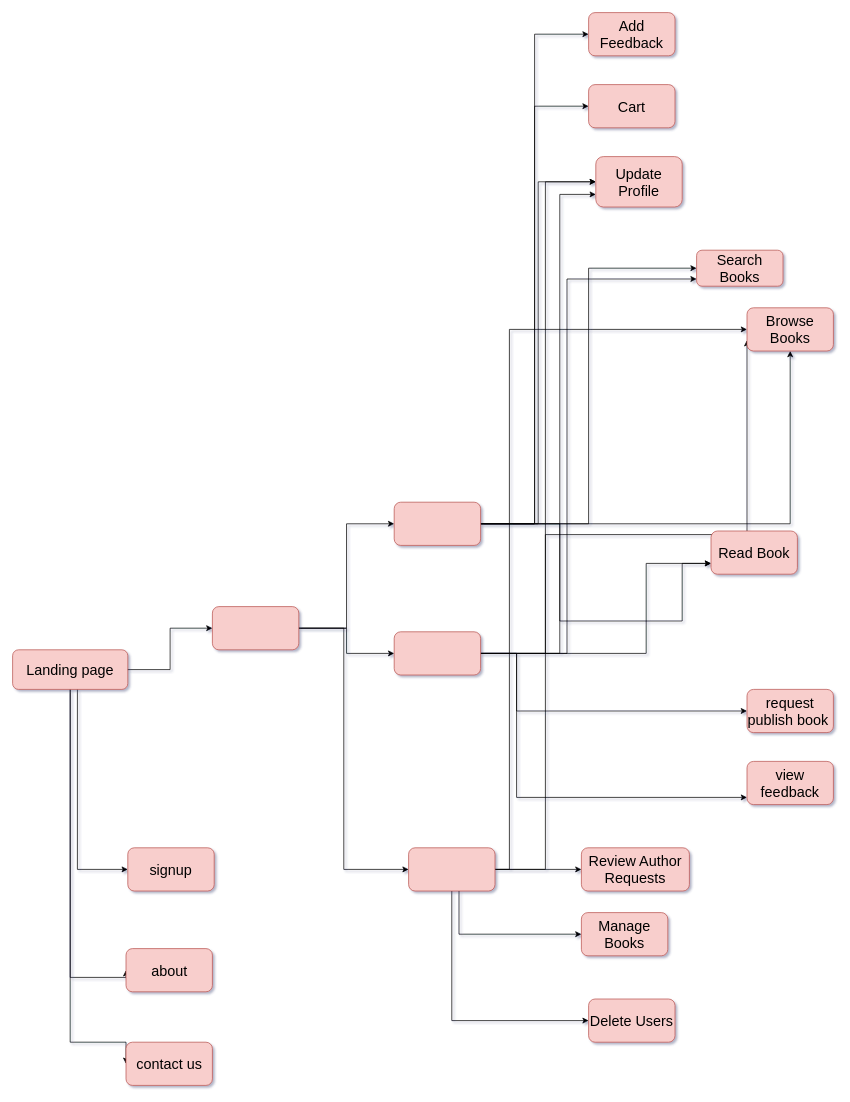
Image size: 850x1102. Some labels were removed from this diagram. Each missing label, with the box of its shape:
Admin: (408, 847, 495, 891)
Author: (393, 631, 481, 675)
login: (212, 606, 299, 650)
User: (393, 501, 481, 545)
